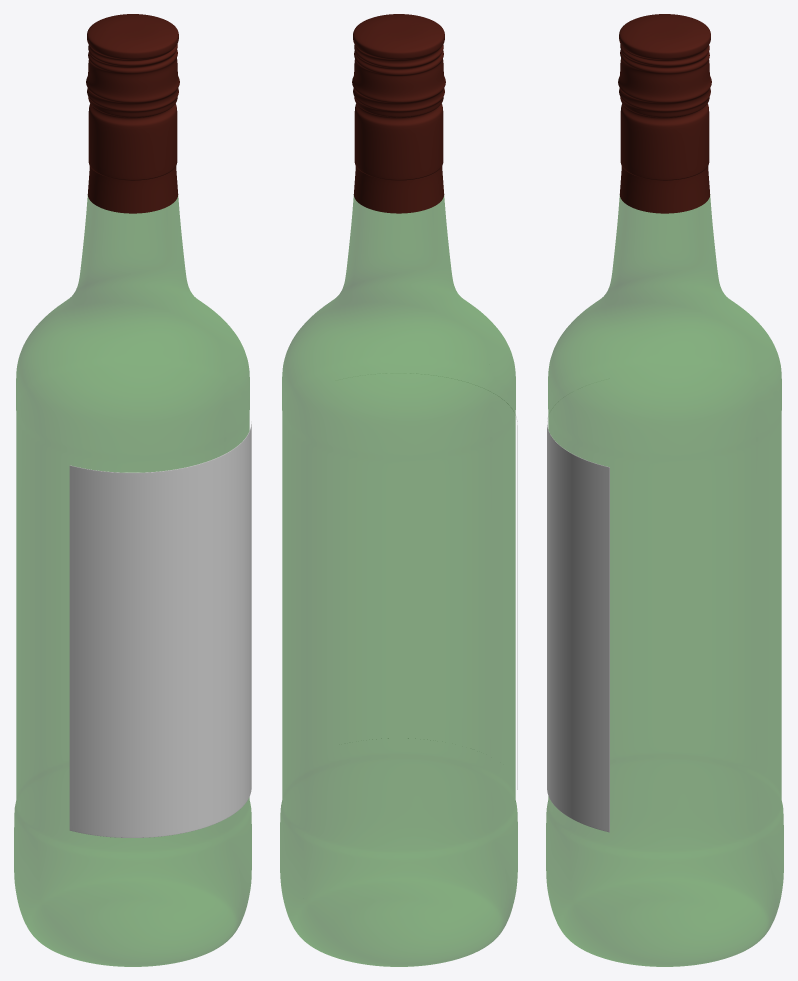
File: bottle.glb
3 renders of one model, left to right at view 1: azimuth 30°, elevation 25°; view 2: azimuth 150°, elevation 25°; view 3: azimuth 270°, elevation 25°, orthographic.
Visible parts, largest first — view 1: Bottle, Label, CAp; view 2: Bottle, CAp; view 3: Bottle, Label, CAp.
Part boxes in pixels (x1,y1,x2,y2): Bottle: [14, 195, 251, 966]; Label: [69, 421, 251, 837]; CAp: [86, 14, 179, 213]; Bottle: [280, 195, 517, 966]; CAp: [352, 14, 445, 213]; Bottle: [546, 195, 783, 966]; Label: [547, 378, 609, 832]; CAp: [618, 14, 711, 213].
Size of the model in its own units: 0.3436 by 1.43 by 0.3436.
